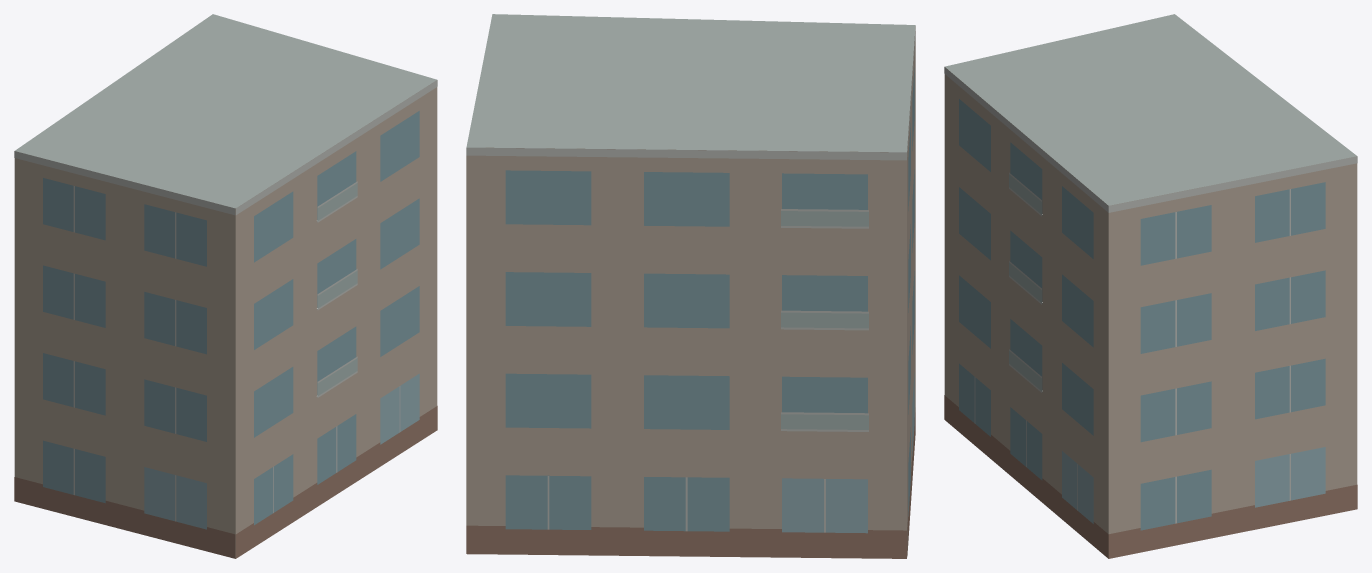
Rendered from survey-upis-32666027.glb.
3 views of the same model, side by side, from view 1: azimuth 30°, elevation 25°; view 2: azimuth 150°, elevation 25°; view 3: azimuth 270°, elevation 25° (orthographic). The views are drawn at different scales.
Visible parts, largest first — view 1: survey-upis-32666027.tmp; view 2: survey-upis-32666027.tmp; view 3: survey-upis-32666027.tmp.
Boxes of the visible parts, x1,y1,x2,y2 form: survey-upis-32666027.tmp: [14, 14, 437, 558]; survey-upis-32666027.tmp: [466, 14, 915, 558]; survey-upis-32666027.tmp: [944, 14, 1357, 558].
Size of the model in its own units: 14.23 by 12.2 by 12.94.
